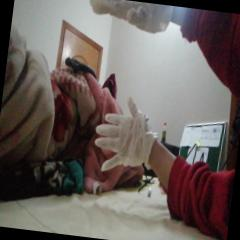gloved: (92, 92, 158, 175), (85, 0, 169, 38)
